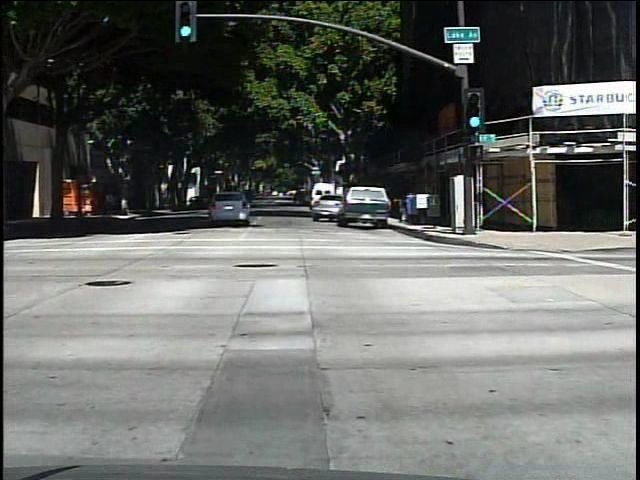person: (99, 185, 115, 220)
